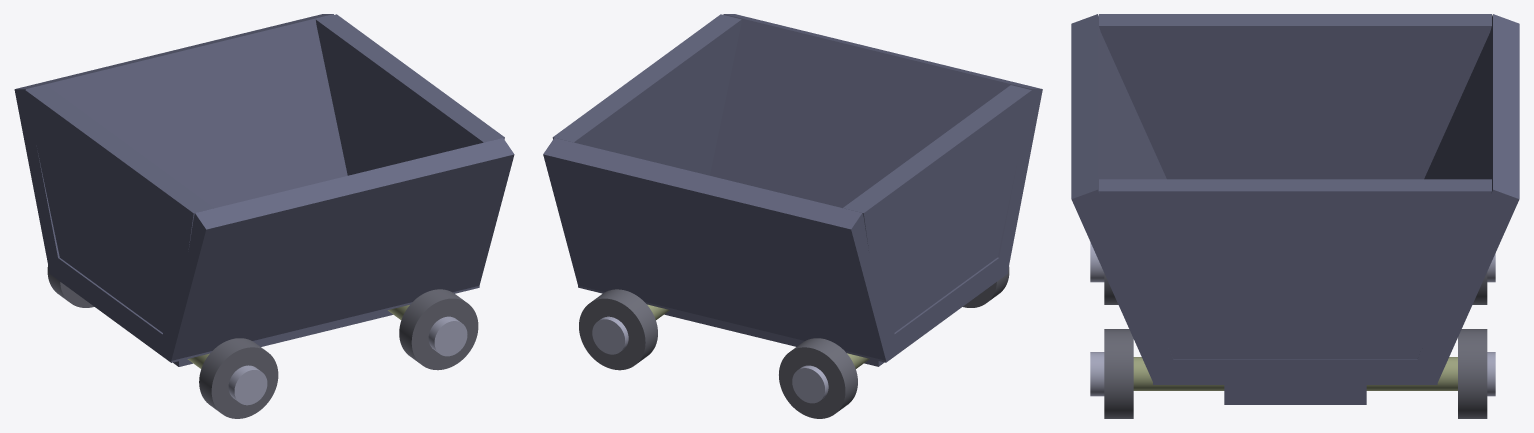
File: Minecart.fbx
3 renders of one model, left to right at view 1: azimuth 30°, elevation 25°; view 2: azimuth 150°, elevation 25°; view 3: azimuth 270°, elevation 25°, orthographic. The views are drawn at different scales.
Parts seen in each view (by area): view 1: Box 1, Box (×2), Box 2, Cylinder 9, Cylinder 1, Box 3, Cylinder 3, Cylinder 7, Box 4, Cylinder 2; view 2: Box 2, Box (×2), Box 1, Cylinder 2, Cylinder 5, Box 3, Cylinder 4, Cylinder 6, Box 4, Cylinder 1; view 3: Box (×2), Box 2, Box 1, Box 3, Box 4, Cylinder 5, Cylinder 9, Cylinder 8, Cylinder 7.
Boxes of the visible parts, <box> form: Box 1: <box>160,138,514,361</box>; Box (×2): <box>25,14,504,332</box>; Box 2: <box>14,14,347,272</box>; Cylinder 9: <box>399,289,478,370</box>; Cylinder 1: <box>199,338,278,418</box>; Box 3: <box>49,257,479,362</box>; Cylinder 3: <box>228,365,267,405</box>; Cylinder 7: <box>428,316,467,356</box>; Box 4: <box>173,310,393,366</box>; Cylinder 2: <box>47,265,94,307</box>; Box 2: <box>543,138,897,360</box>; Box (×2): <box>552,14,1031,332</box>; Box 1: <box>710,14,1042,271</box>; Cylinder 2: <box>779,338,857,418</box>; Cylinder 5: <box>579,289,657,370</box>; Box 3: <box>578,252,1007,362</box>; Cylinder 4: <box>792,365,828,403</box>; Cylinder 6: <box>592,316,628,354</box>; Box 4: <box>664,310,884,366</box>; Cylinder 1: <box>963,267,1009,307</box>; Box (×2): <box>1099,14,1491,358</box>; Box 2: <box>1411,14,1519,383</box>; Box 1: <box>1071,14,1179,383</box>; Box 3: <box>1153,359,1437,384</box>; Box 4: <box>1224,385,1366,404</box>; Cylinder 5: <box>1458,329,1487,418</box>; Cylinder 9: <box>1104,329,1133,418</box>; Cylinder 8: <box>1133,357,1457,390</box>; Cylinder 7: <box>1090,352,1104,396</box>.
Size of the model in its own units: 147 by 157 by 99.52.
